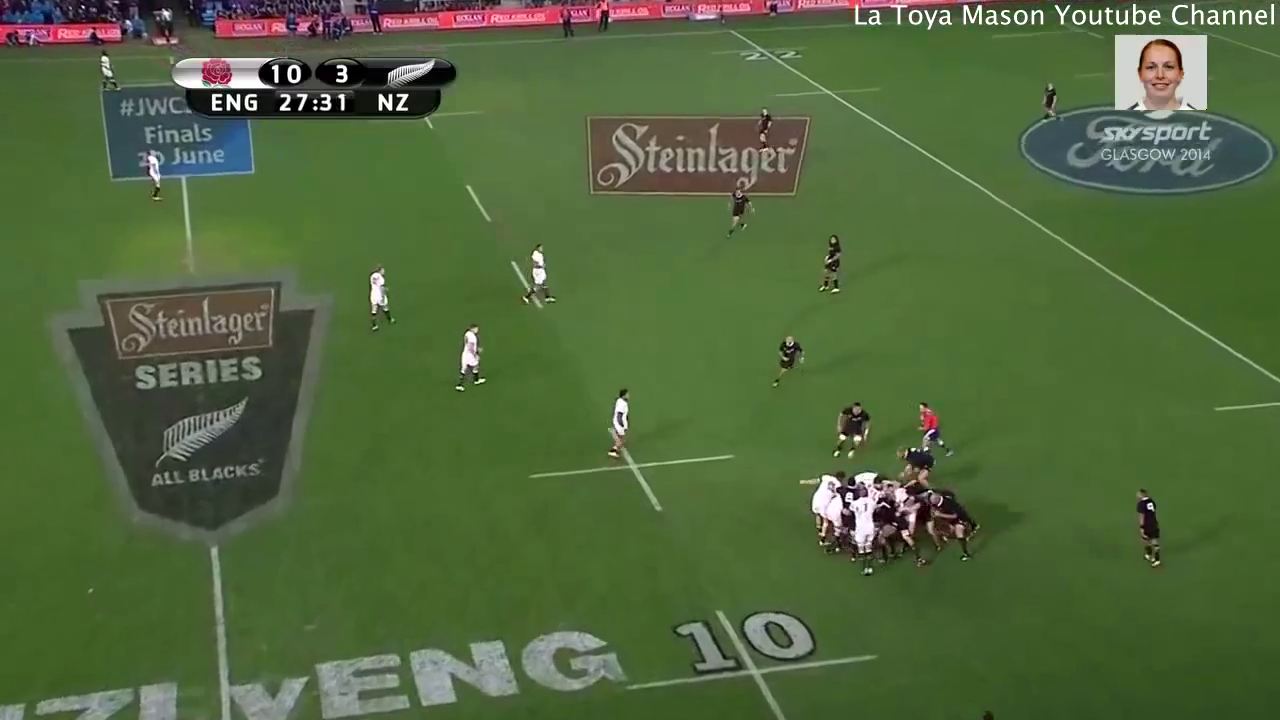10_metre: (617, 598, 884, 720), (522, 424, 747, 522), (358, 87, 484, 136)
player: (799, 468, 845, 549), (877, 507, 931, 576), (594, 382, 638, 465), (1125, 485, 1164, 577), (361, 257, 403, 339), (913, 391, 960, 464), (932, 492, 979, 565), (450, 321, 491, 402), (823, 396, 873, 461), (516, 240, 558, 311), (815, 228, 851, 303), (848, 486, 876, 581), (764, 331, 805, 389), (716, 183, 752, 247), (896, 443, 936, 487), (94, 47, 125, 96), (141, 152, 169, 204), (755, 105, 779, 157), (1033, 79, 1061, 122), (848, 468, 881, 492)
